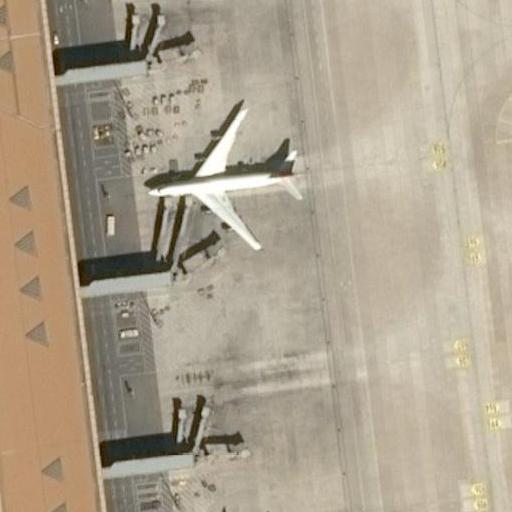Aircraft: (137, 91, 309, 254), (189, 499, 285, 512)
